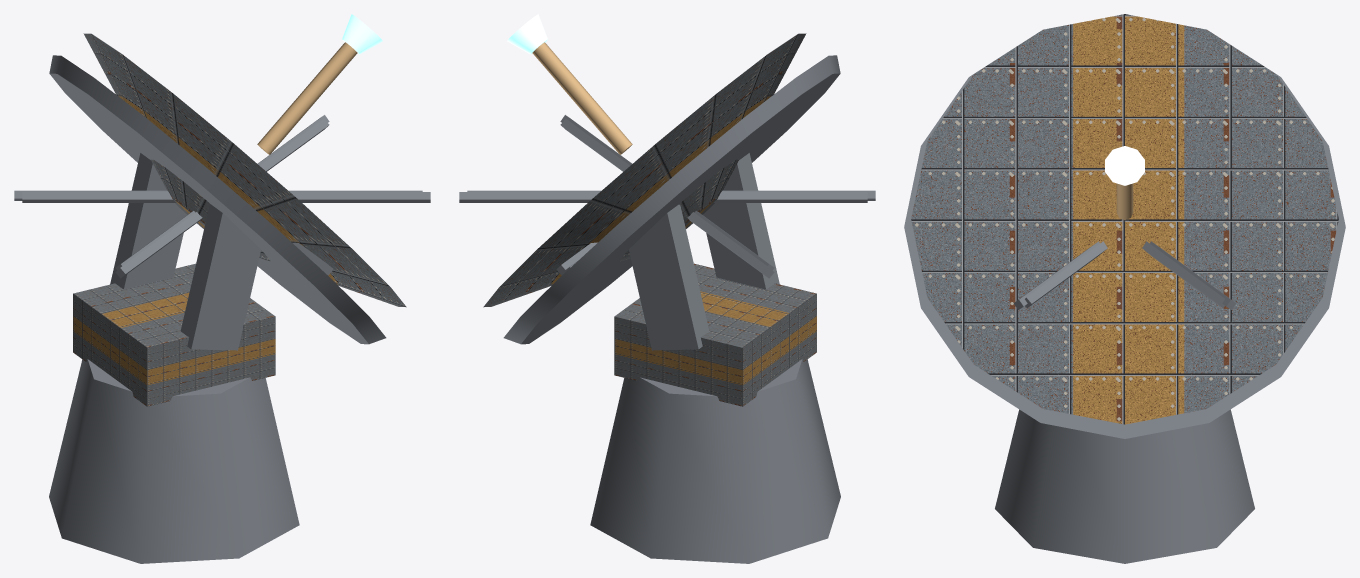
The model's file is radar_array.glb.
The picture shows the model from 3 angles, left to right: view 1: azimuth 30°, elevation 25°; view 2: azimuth 150°, elevation 25°; view 3: azimuth 270°, elevation 25°; orthographic projection.
Parts seen in each view (by area): view 1: radarBase, radarRotorMesh; view 2: radarBase, radarRotorMesh; view 3: radarRotorMesh, radarBase.
Boxes of the visible parts, x1,y1,x2,y2 form: radarBase: [49, 263, 299, 563]; radarRotorMesh: [14, 14, 430, 350]; radarBase: [590, 263, 840, 563]; radarRotorMesh: [459, 14, 875, 350]; radarRotorMesh: [904, 14, 1345, 438]; radarBase: [995, 409, 1254, 563].
Bounding box in the file's own units: 7.92 × 11.15 × 9.5.
Materials: 4 (1 with a texture image).
